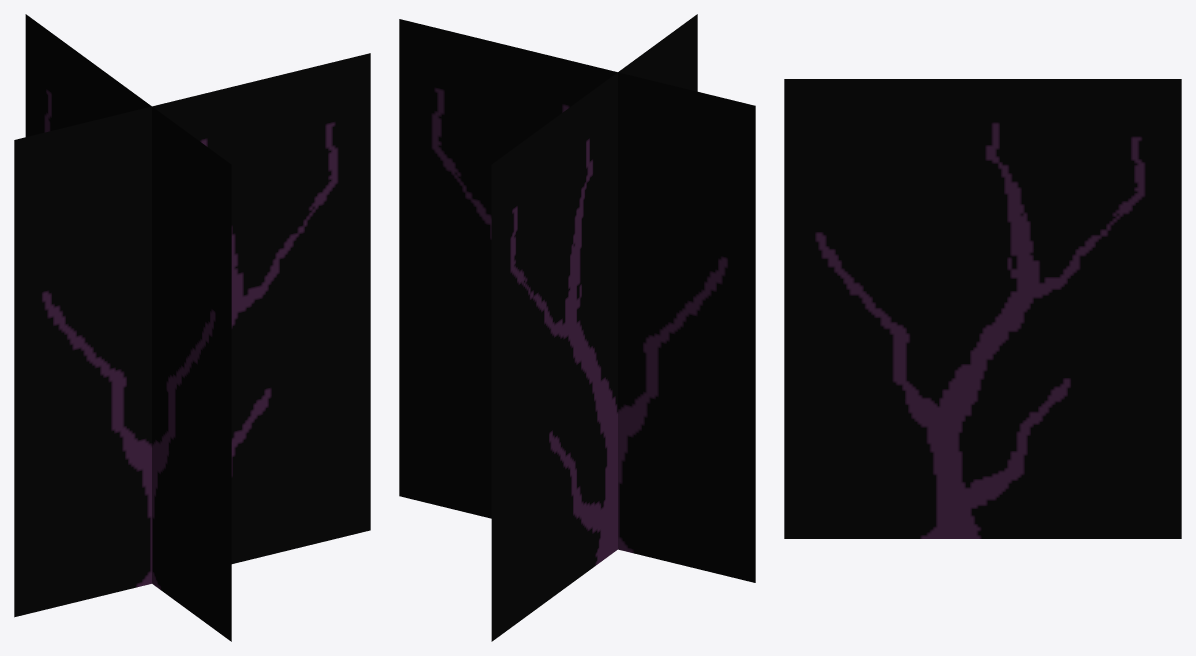
Rendered from bush_01.fbx.
The picture shows the model from 3 angles, left to right: view 1: azimuth 30°, elevation 25°; view 2: azimuth 150°, elevation 25°; view 3: azimuth 270°, elevation 25°; orthographic projection. The views are drawn at different scales.
Visible parts, largest first — view 1: bush_01; view 2: bush_01; view 3: bush_01.
Part boxes in pixels (box(x1,y1,x2,y2)): bush_01: box(14, 14, 370, 641); bush_01: box(399, 14, 755, 641); bush_01: box(784, 79, 1181, 538).
Bounding box in the file's own units: 0.2507 × 0.3206 × 0.2507.
1 material, 1 textured.
